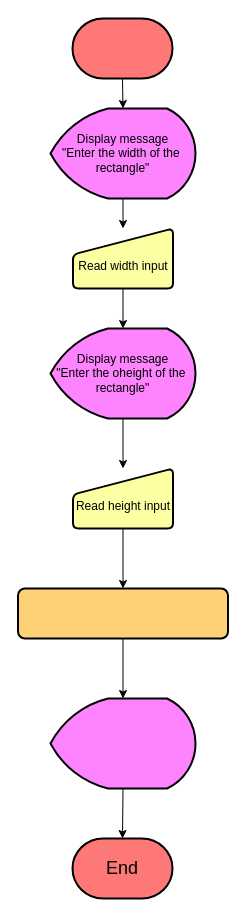
This 246x916 diagram has some shape labels left out. The shapes that lost their labels are listed below. From the top down, each one's centre as x and y in pixels, then its label:
the point at 122,48: Start
the point at 122,613: Calculate area : area = width*height
the point at 122,743: Display message "The area of the rectangle is ",area
